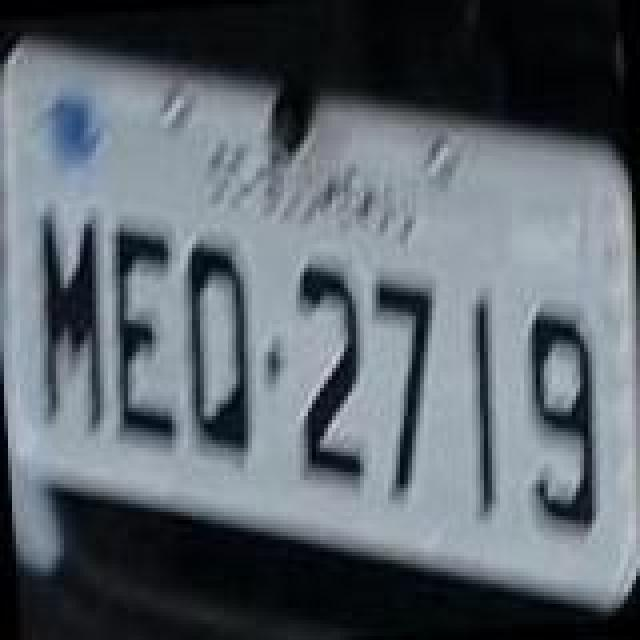1: (466, 302, 502, 514)
2: (294, 260, 370, 484)
7: (372, 276, 444, 492)
9: (524, 304, 604, 536)
E: (108, 228, 180, 444)
M: (34, 212, 110, 428)
Q: (180, 240, 252, 456)
